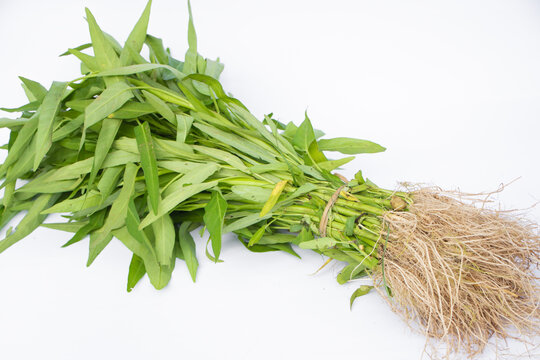Kangkung: (21, 26, 540, 356)
